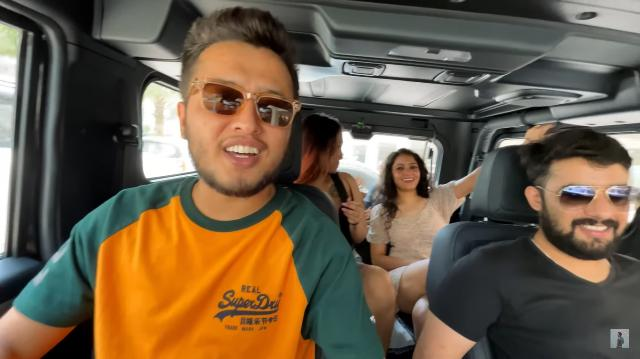no seatbelt: (122, 131, 316, 347), (462, 236, 640, 350), (284, 147, 371, 233), (388, 193, 456, 269)
